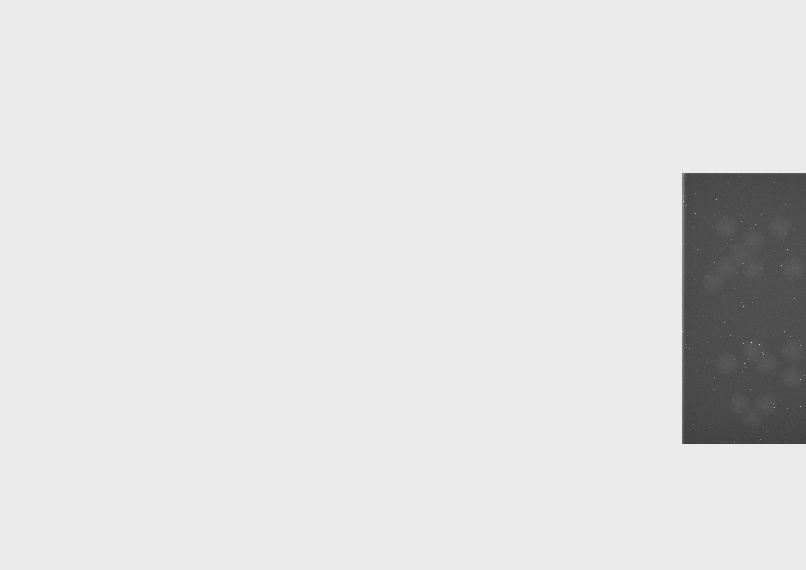cluster: (702, 216, 805, 293), (716, 339, 806, 427)
